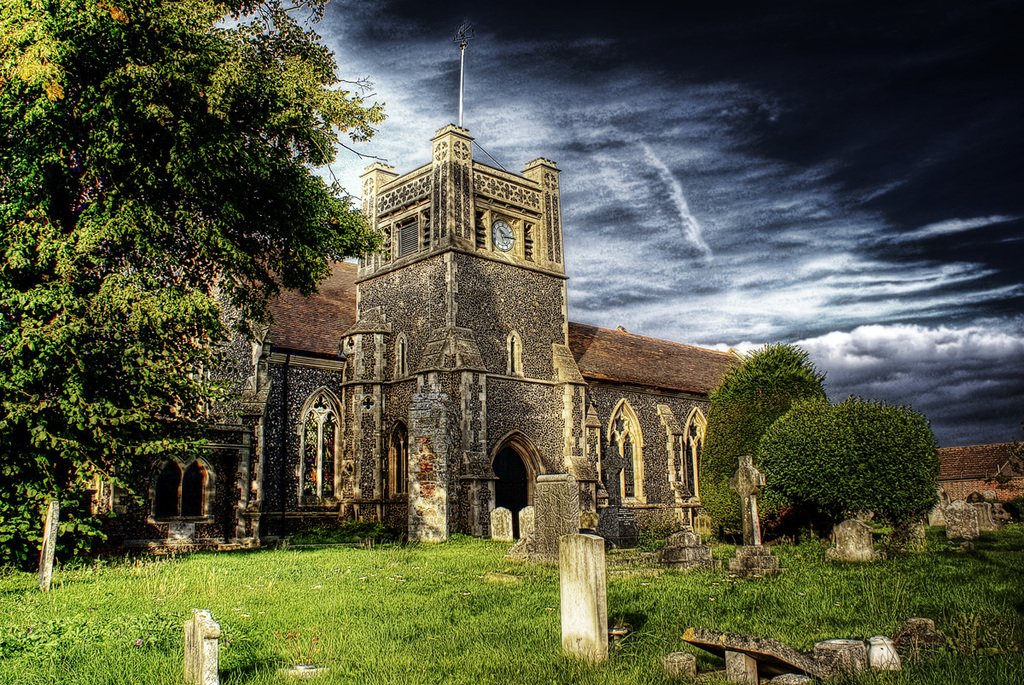Tree: (15, 34, 355, 541), (702, 336, 839, 540), (752, 392, 956, 528)
